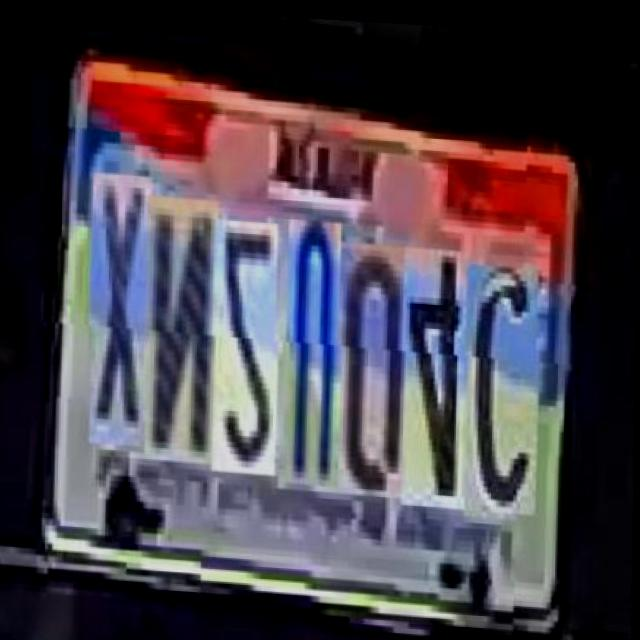0: (338, 235, 415, 492)
2: (211, 215, 281, 472)
4: (402, 240, 471, 501)
c: (465, 255, 542, 512)
n: (146, 192, 222, 460)
u: (285, 214, 345, 482)
x: (91, 169, 155, 444)
